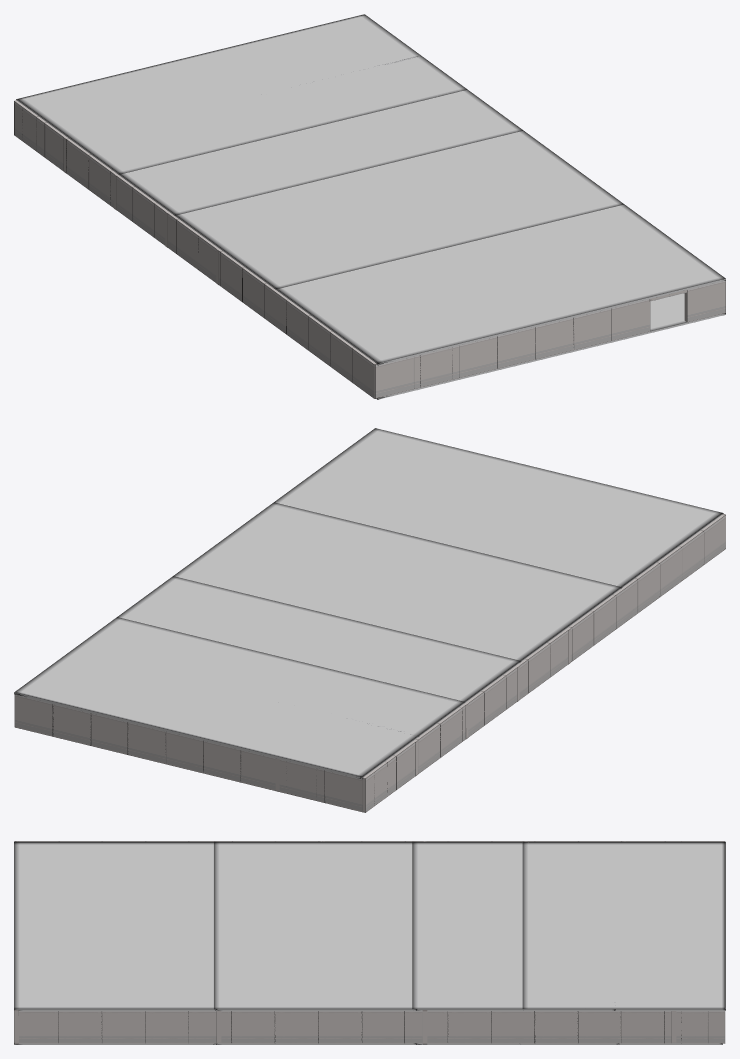
The model's file is Mapa com Teto.fbx.
The picture shows the model from 3 angles, top to bottom: view 1: azimuth 30°, elevation 25°; view 2: azimuth 150°, elevation 25°; view 3: azimuth 270°, elevation 25°; orthographic projection.
Parts seen in each view (by area): view 1: Chão.004, Chão.007, Chão.005, Chão.006, Chão, Parede, Parede.002, Parede.053, Parede.048, Parede.003, Parede.049, Parede.050 (+19 smaller); view 2: Chão.007, Chão.004, Chão.005, Chão.006, Parede.022, Parede.023, Parede.021, Parede.029, Parede.027, Parede.024, Parede.026, Parede.028 (+19 smaller); view 3: Chão.007, Chão.004, Chão.005, Chão.006, Parede.016, Parede.012, Parede.009, Parede.005, Parede.008, Parede.010, Parede.013, Parede.006 (+12 smaller).
Part boxes in pixels (bbox=[...]): Chão.004: bbox=[274, 204, 725, 365]; Chão.007: bbox=[16, 14, 467, 174]; Chão.005: bbox=[175, 130, 623, 289]; Chão.006: bbox=[73, 55, 523, 215]; Chão: bbox=[376, 293, 725, 399]; Parede: bbox=[684, 280, 725, 322]; Parede.002: bbox=[611, 299, 650, 340]; Parede.053: bbox=[375, 356, 413, 398]; Parede.048: bbox=[497, 327, 535, 368]; Parede.003: bbox=[573, 308, 611, 349]; Parede.049: bbox=[535, 318, 574, 358]; Parede.050: bbox=[459, 336, 497, 377]; Chão.007: bbox=[14, 617, 465, 779]; Chão.004: bbox=[274, 428, 723, 587]; Chão.005: bbox=[173, 502, 622, 662]; Chão.006: bbox=[117, 576, 521, 736]; Parede.022: bbox=[52, 704, 91, 745]; Parede.023: bbox=[127, 722, 166, 763]; Parede.021: bbox=[14, 694, 53, 736]; Parede.029: bbox=[324, 770, 363, 812]; Parede.027: bbox=[203, 740, 241, 782]; Parede.024: bbox=[90, 713, 128, 754]; Parede.026: bbox=[279, 759, 316, 800]; Parede.028: bbox=[165, 731, 203, 773]; Chão.007: bbox=[522, 841, 725, 1010]; Chão.004: bbox=[14, 841, 217, 1010]; Chão.005: bbox=[214, 841, 417, 1010]; Chão.006: bbox=[412, 841, 615, 1010]; Parede.016: bbox=[447, 1011, 491, 1043]; Parede.012: bbox=[534, 1011, 578, 1043]; Parede.009: bbox=[318, 1011, 362, 1043]; Parede.005: bbox=[58, 1011, 102, 1043]; Parede.008: bbox=[274, 1011, 318, 1043]; Parede.010: bbox=[231, 1011, 275, 1043]; Parede.013: bbox=[577, 1011, 621, 1043]; Parede.006: bbox=[145, 1011, 188, 1043].
Size of the model in its own units: 4089 by 401 by 7269.
138 materials, 138 textured.
